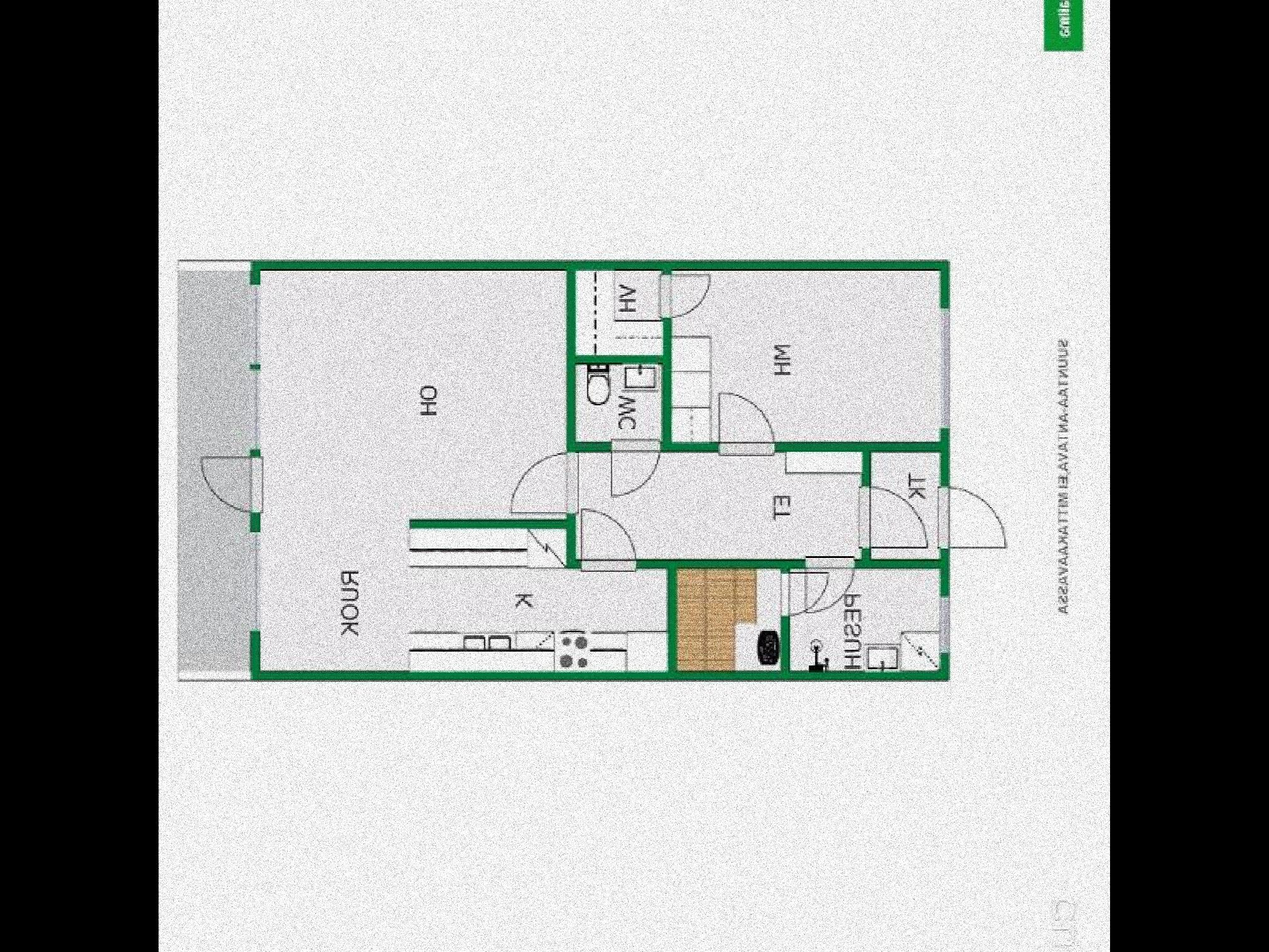door: (939, 485, 1008, 550), (718, 384, 776, 459), (577, 501, 638, 571), (858, 485, 924, 548), (507, 457, 575, 517), (196, 455, 260, 511), (604, 441, 657, 497), (657, 274, 716, 324), (808, 557, 853, 614), (779, 571, 825, 618)
window: (938, 306, 953, 431), (248, 531, 264, 630), (250, 369, 264, 450), (249, 279, 262, 361), (939, 599, 950, 654)
zone: (259, 272, 664, 670), (669, 274, 939, 445), (177, 268, 252, 675), (566, 455, 862, 556), (789, 567, 941, 670), (674, 567, 779, 668), (573, 272, 660, 358), (575, 361, 661, 441), (872, 452, 938, 556)
